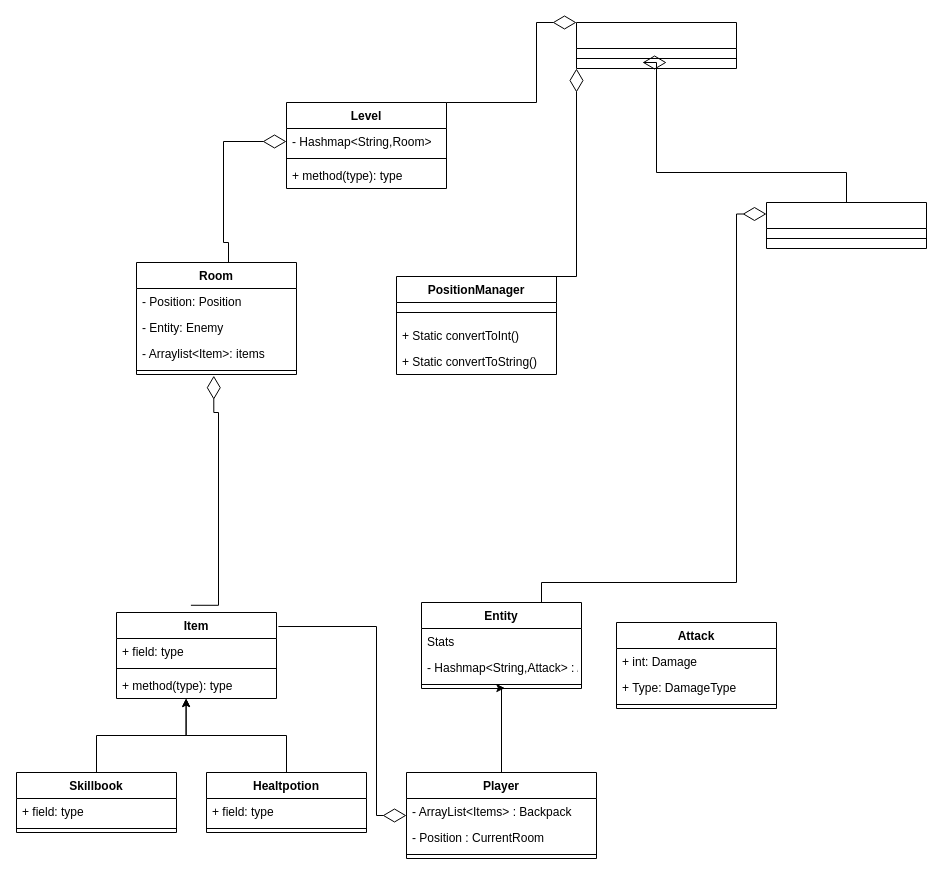
Image size: 943x875. Some labels were removed from this diagram. The centre of each missing label's shape, as x and y in pixels:
"BattleController" goes at (x=846, y=225).
"GameController" goes at (x=656, y=45).
